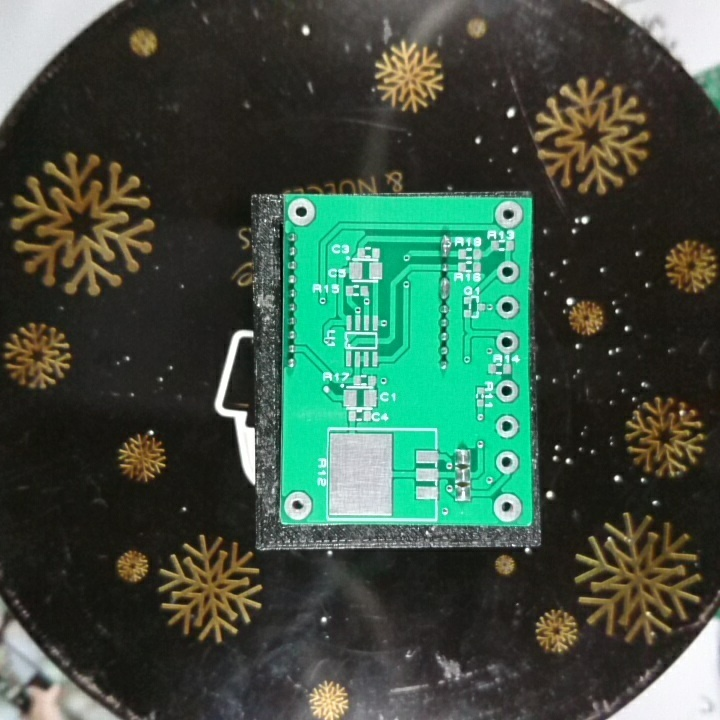F: (285, 194, 319, 230), (283, 490, 315, 522), (491, 199, 525, 229), (492, 492, 521, 522), (494, 327, 522, 358), (493, 412, 522, 441), (494, 293, 522, 322), (494, 379, 522, 406), (494, 449, 522, 474), (497, 258, 521, 283)
P: (438, 232, 454, 258), (437, 275, 453, 300)
